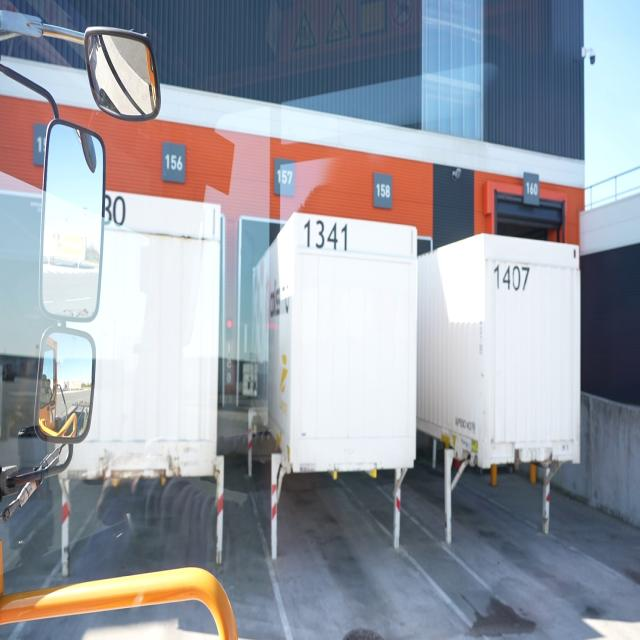Code: (300, 215, 353, 256), (489, 256, 533, 297)
